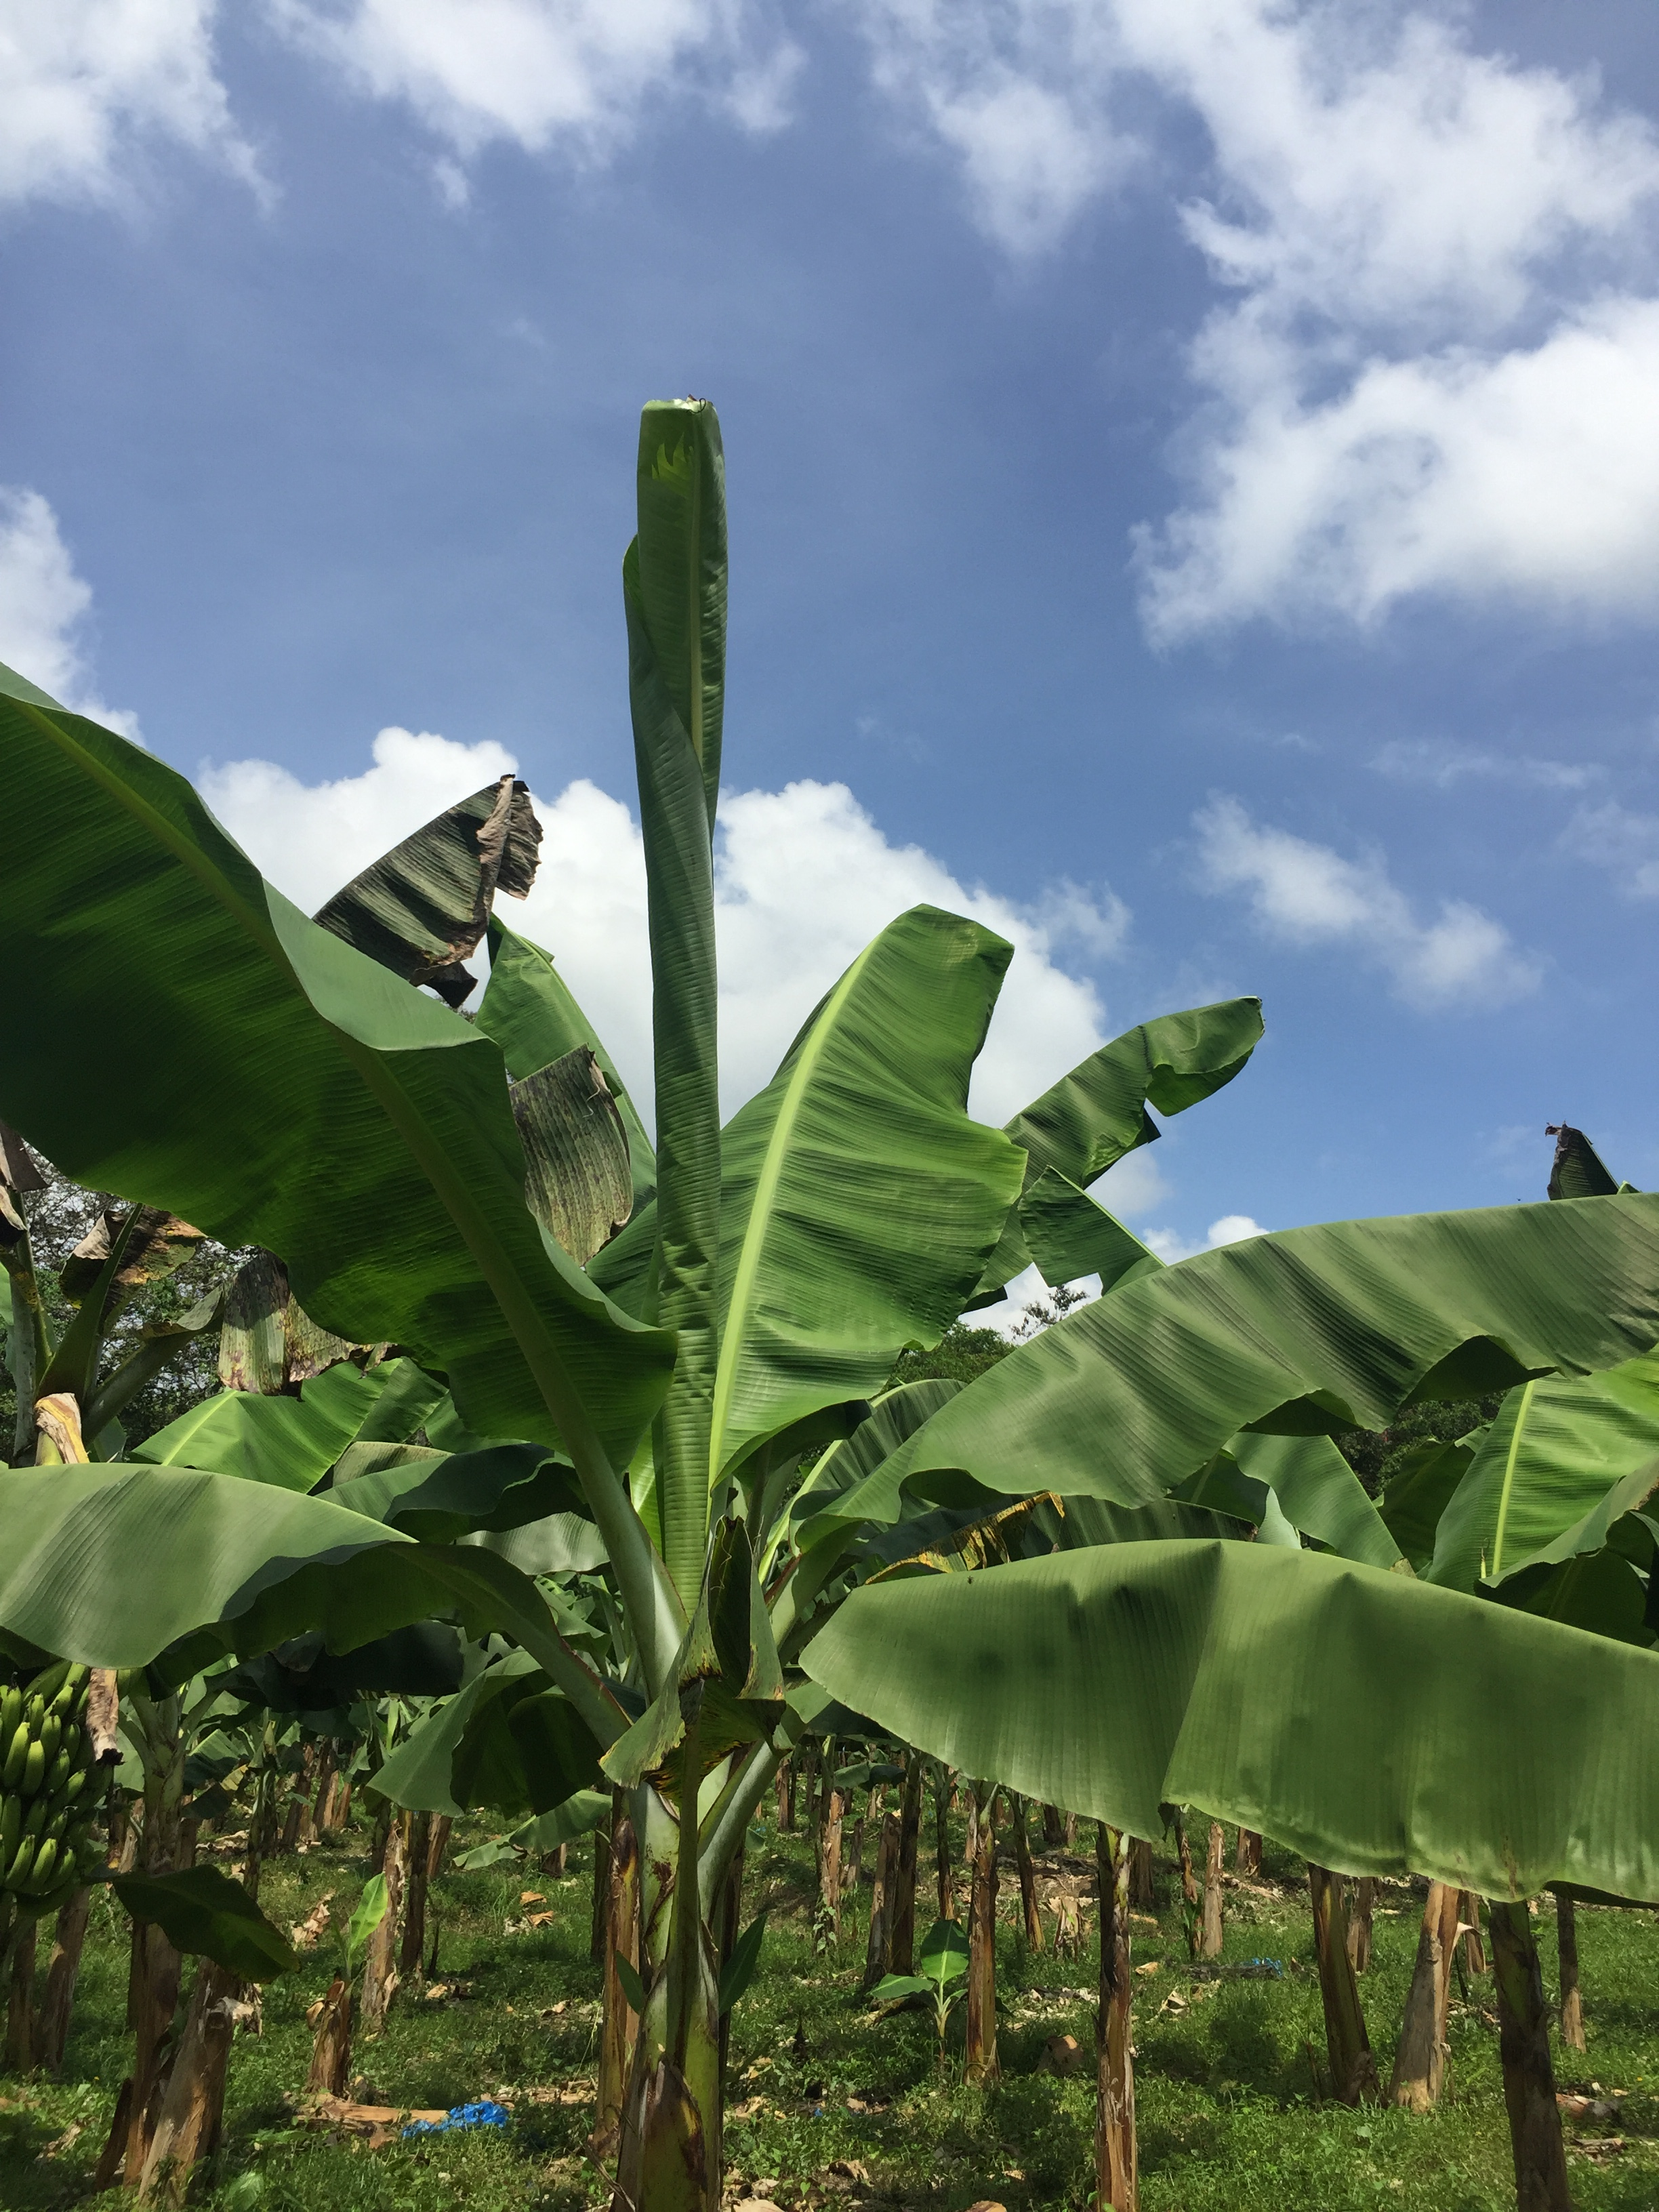candleleafs: (624, 401, 725, 1632)
